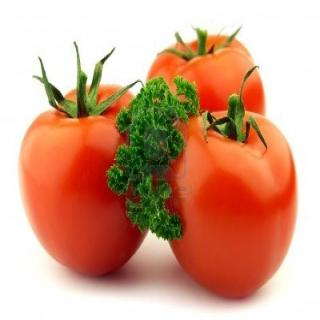Tomat: (165, 66, 299, 300), (19, 41, 150, 278), (147, 25, 267, 117)
